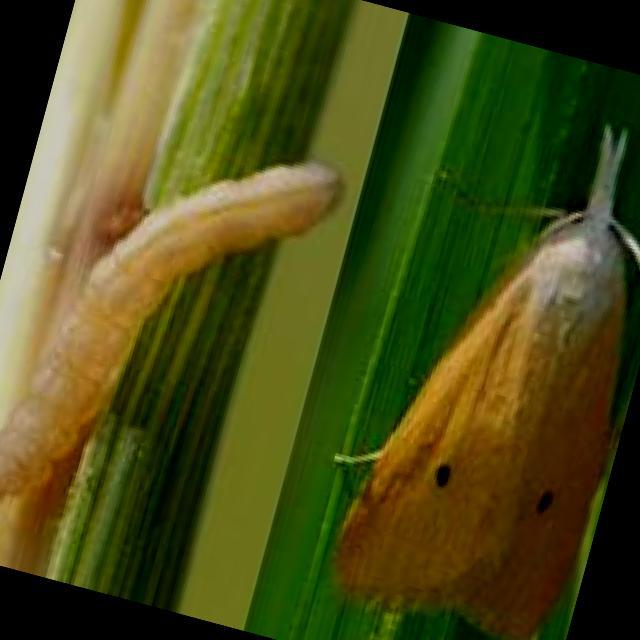stem borer: (336, 128, 639, 639), (0, 164, 340, 503)
